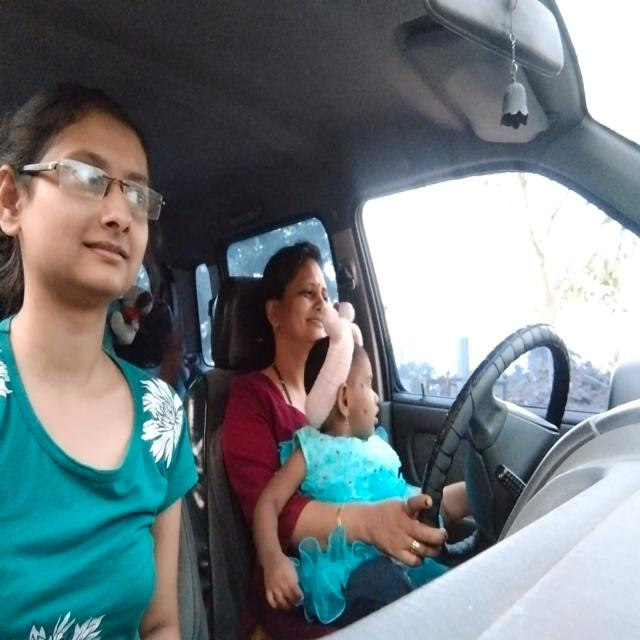child: (309, 328, 382, 443)
person: (1, 79, 165, 309), (261, 239, 333, 342)
